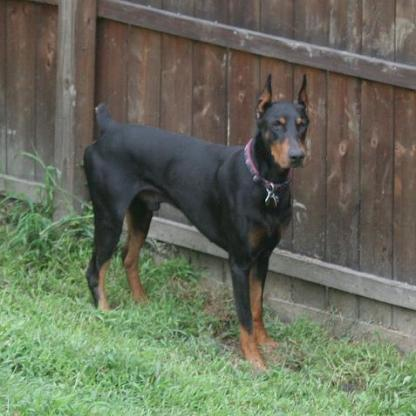Doberman: (76, 68, 312, 376)
